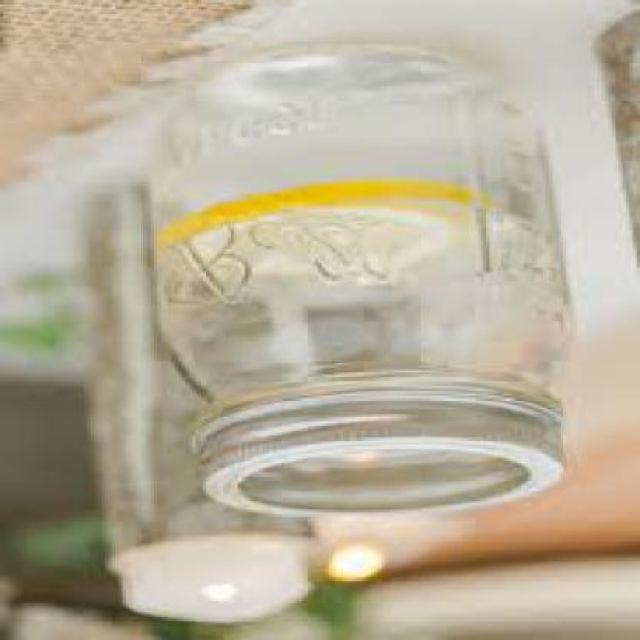GLASS: (136, 47, 559, 519), (84, 198, 308, 556)
METAL: (188, 388, 560, 521)
